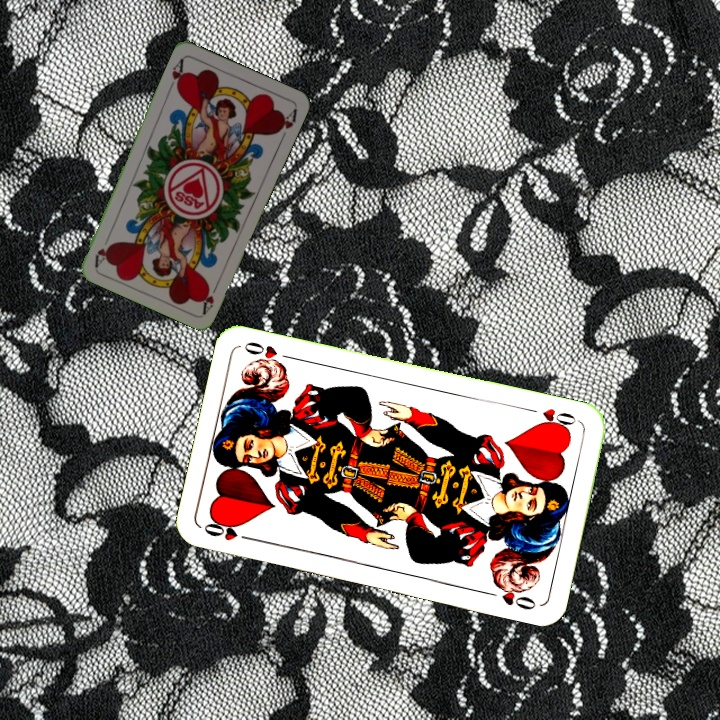HA: (197, 277, 222, 316), (165, 54, 188, 93)
HO: (523, 404, 581, 434), (199, 517, 258, 544)
